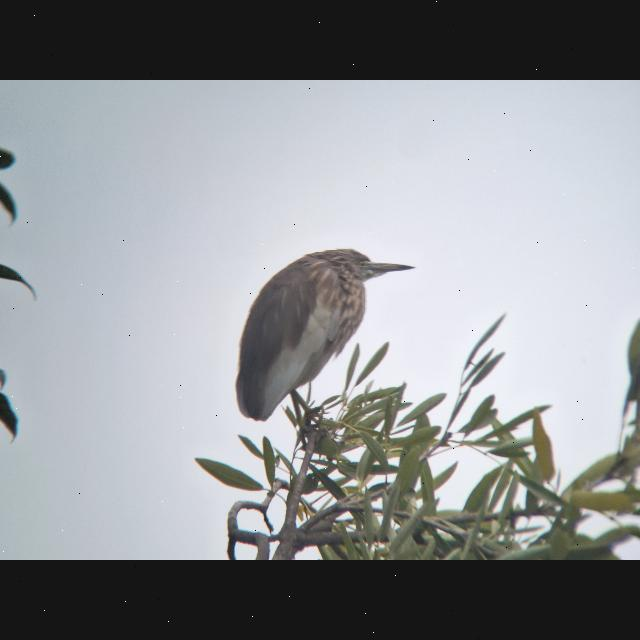heron: (237, 248, 419, 424)
